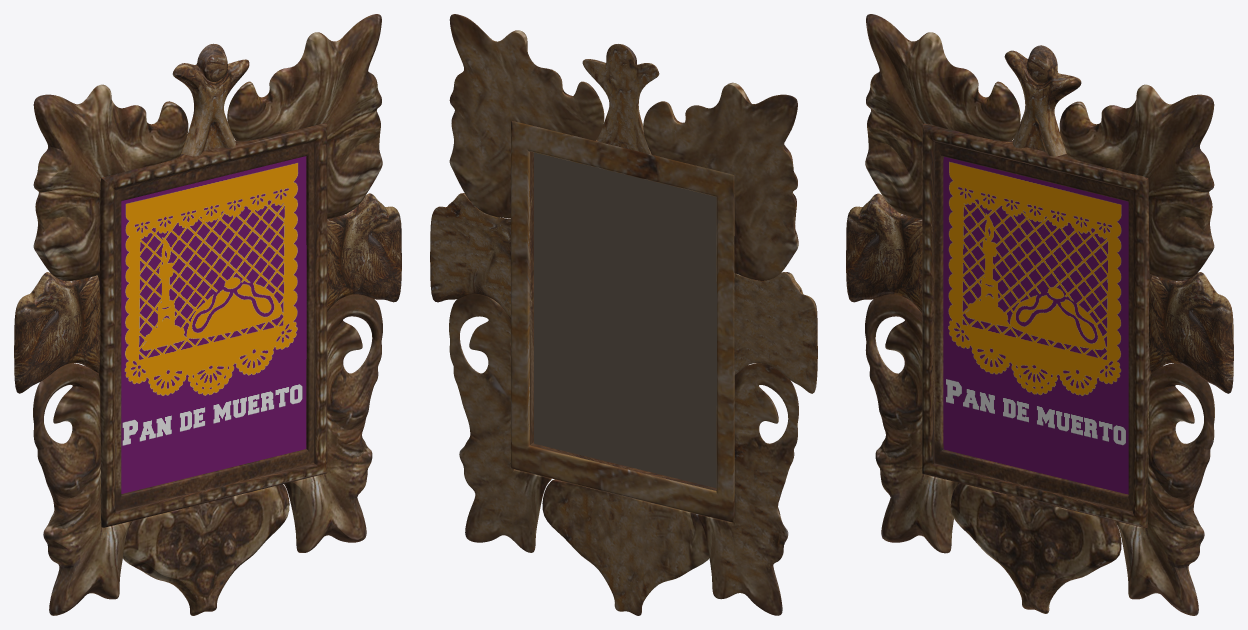
The model's file is pan1.fbx.
3 views of the same model, side by side, from view 1: azimuth 30°, elevation 25°; view 2: azimuth 150°, elevation 25°; view 3: azimuth 330°, elevation 25° (orthographic).
Parts seen in each view (by area): view 1: 10305_picture_frame_V2_max2011_it2.001, Plano.001; view 2: 10305_picture_frame_V2_max2011_it2.001, Plano.002; view 3: 10305_picture_frame_V2_max2011_it2.001, Plano.001.
Part boxes in pixels (x1,y1,x2,y2): 10305_picture_frame_V2_max2011_it2.001: [14, 14, 401, 615]; Plano.001: [121, 156, 306, 493]; 10305_picture_frame_V2_max2011_it2.001: [430, 14, 817, 615]; Plano.002: [534, 152, 716, 487]; 10305_picture_frame_V2_max2011_it2.001: [846, 14, 1233, 615]; Plano.001: [943, 156, 1128, 494].
Bounding box in the file's own units: 175 × 245 × 6.63.
Materials: 3 (2 with a texture image).
